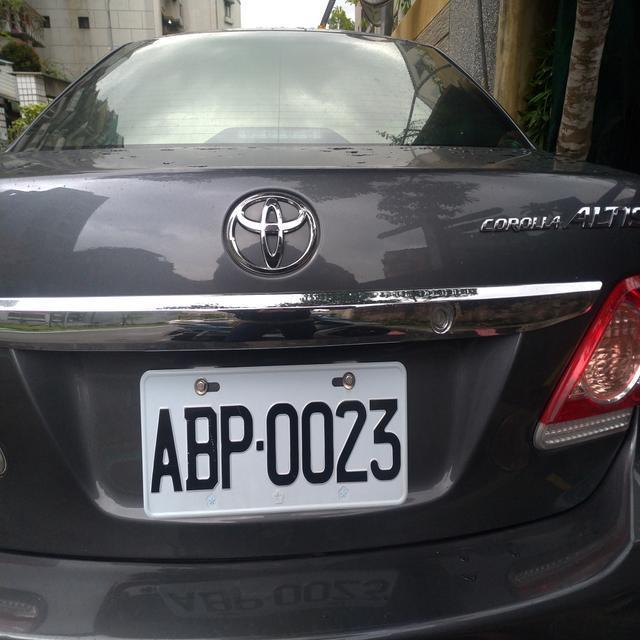plate: (139, 388, 406, 498)
